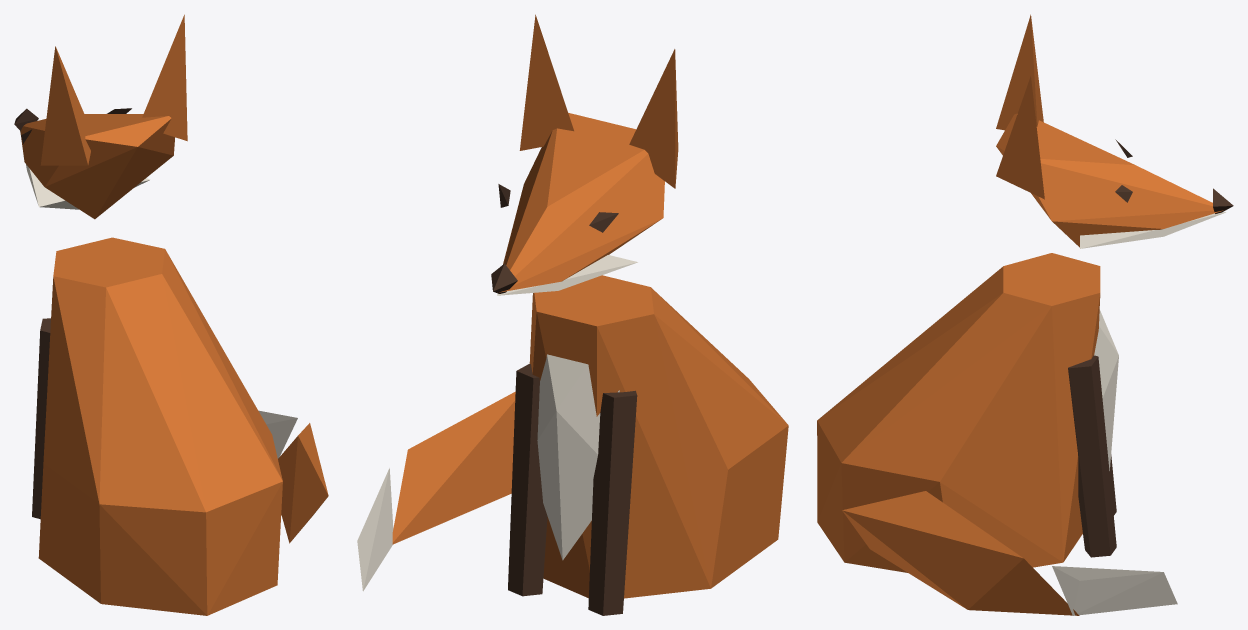
File: kit.glb
3 renders of one model, left to right at view 1: azimuth 30°, elevation 25°; view 2: azimuth 150°, elevation 25°; view 3: azimuth 270°, elevation 25°, orthographic. The views are drawn at different scales.
Visible parts, largest first — view 1: body, head, tail; view 2: body, head, tail; view 3: body, tail, head.
Part boxes in pixels (x1=…): body: x1=32, y1=237, x2=282, y2=615; head: x1=14, y1=14, x2=187, y2=219; tail: x1=258, y1=410, x2=328, y2=543; body: x1=508, y1=275, x2=788, y2=615; head: x1=491, y1=14, x2=678, y2=295; tail: x1=357, y1=391, x2=515, y2=591; body: x1=817, y1=253, x2=1118, y2=572; tail: x1=842, y1=491, x2=1177, y2=615; head: x1=996, y1=14, x2=1233, y2=248.
Bounding box in the file's own units: 0.2743 × 0.4634 × 0.3573.
